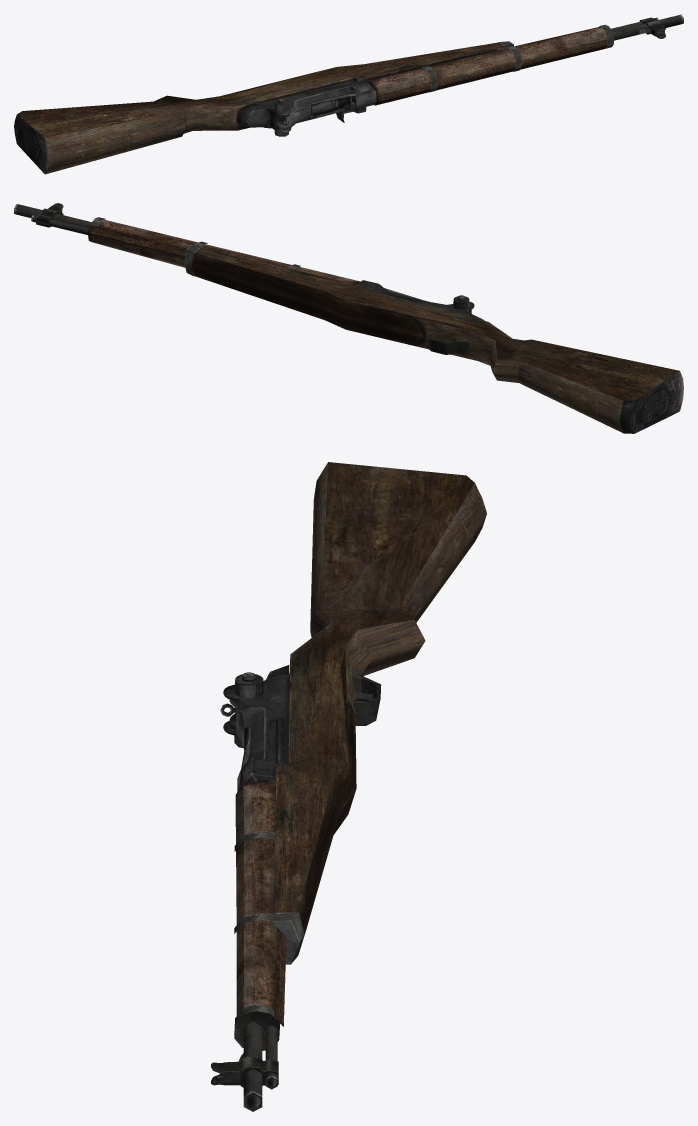
The model's file is weapon_m1garand.glb.
The picture shows the model from 3 angles, top to bottom: view 1: azimuth 30°, elevation 25°; view 2: azimuth 150°, elevation 25°; view 3: azimuth 270°, elevation 25°; orthographic projection. The views are drawn at different scales.
Size of the model in its own units: 43.14 by 2.85 by 8.35.
Materials: 1 (1 with a texture image).
